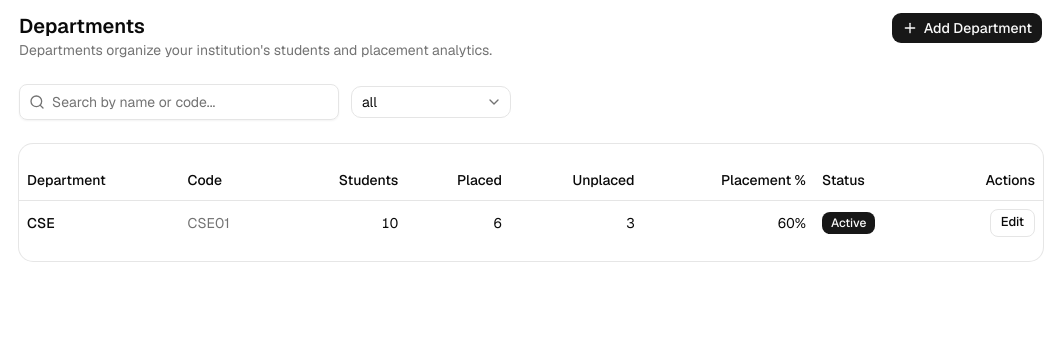
it: DepartmentList › shows a no-results state when the search matches nothing
Expected: the text "CSE" is shown, x1=19 y1=200 x2=180 y2=244
Type "mechanical" into the field named "Search departments".
click(179, 102); type("mechanical")  # box x1=19 y1=84 x2=339 y2=120
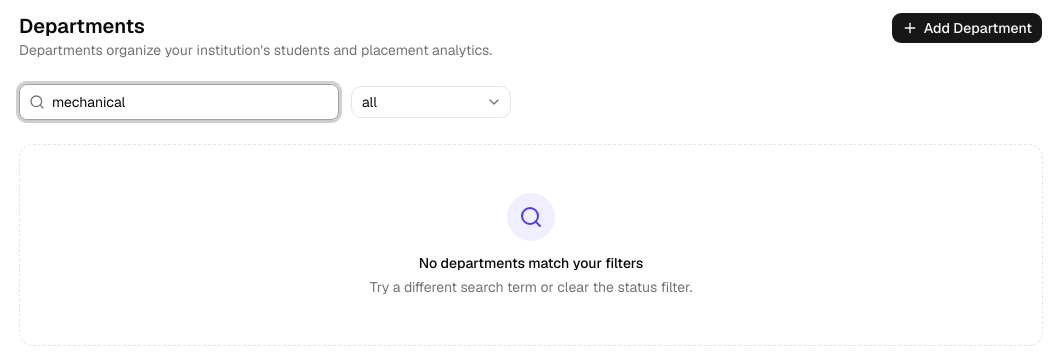
Now the text "No departments match your filters" is shown, box x1=419 y1=254 x2=643 y2=272
